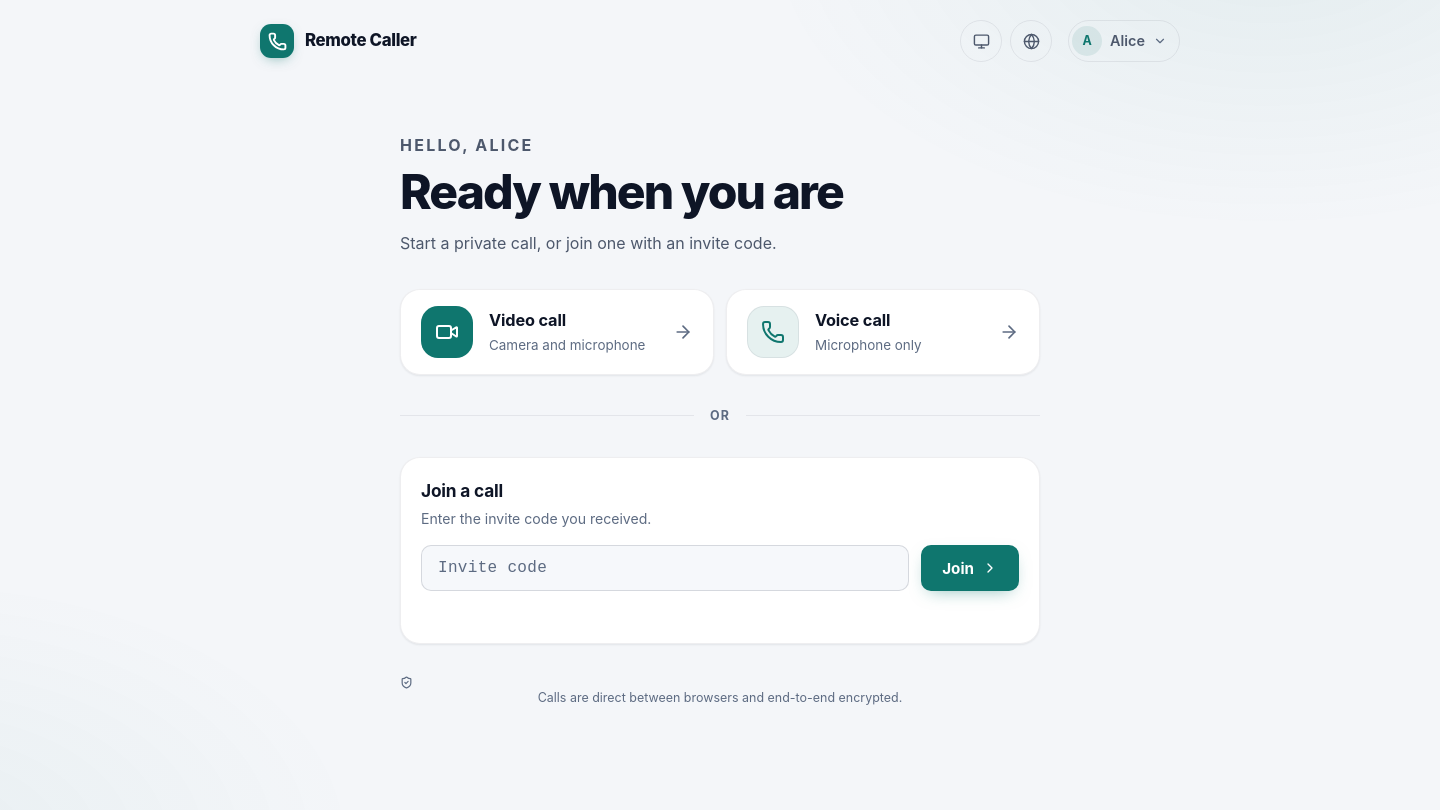
Test: HomeView › clears the code hint as the user types
Type "ab" into the field labelled "Invite code".
click(665, 568); type("ab")  # box top-left (421, 545), bottom-right (909, 591)
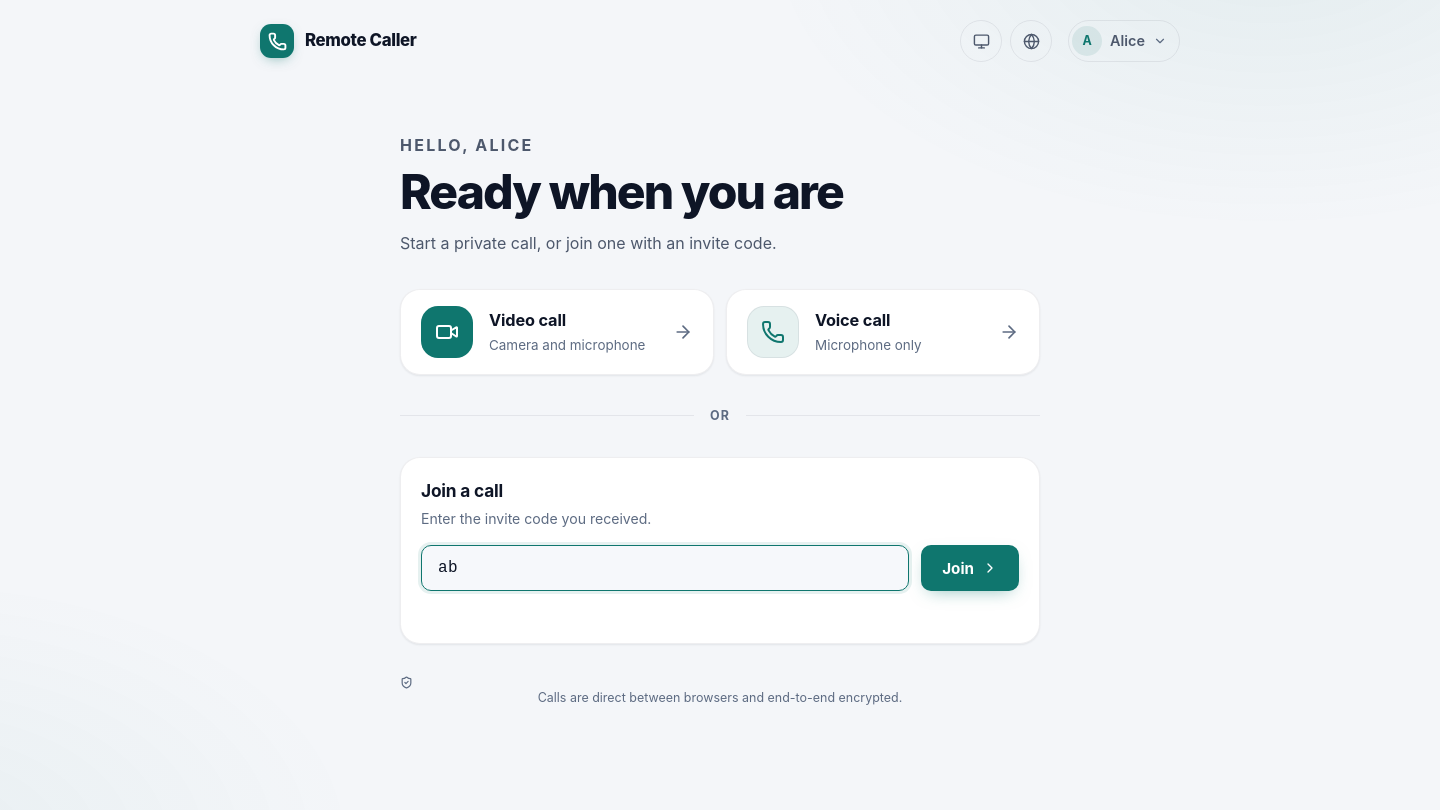
Click the button "Join".
click(970, 568)  # box top-left (921, 545), bottom-right (1019, 591)
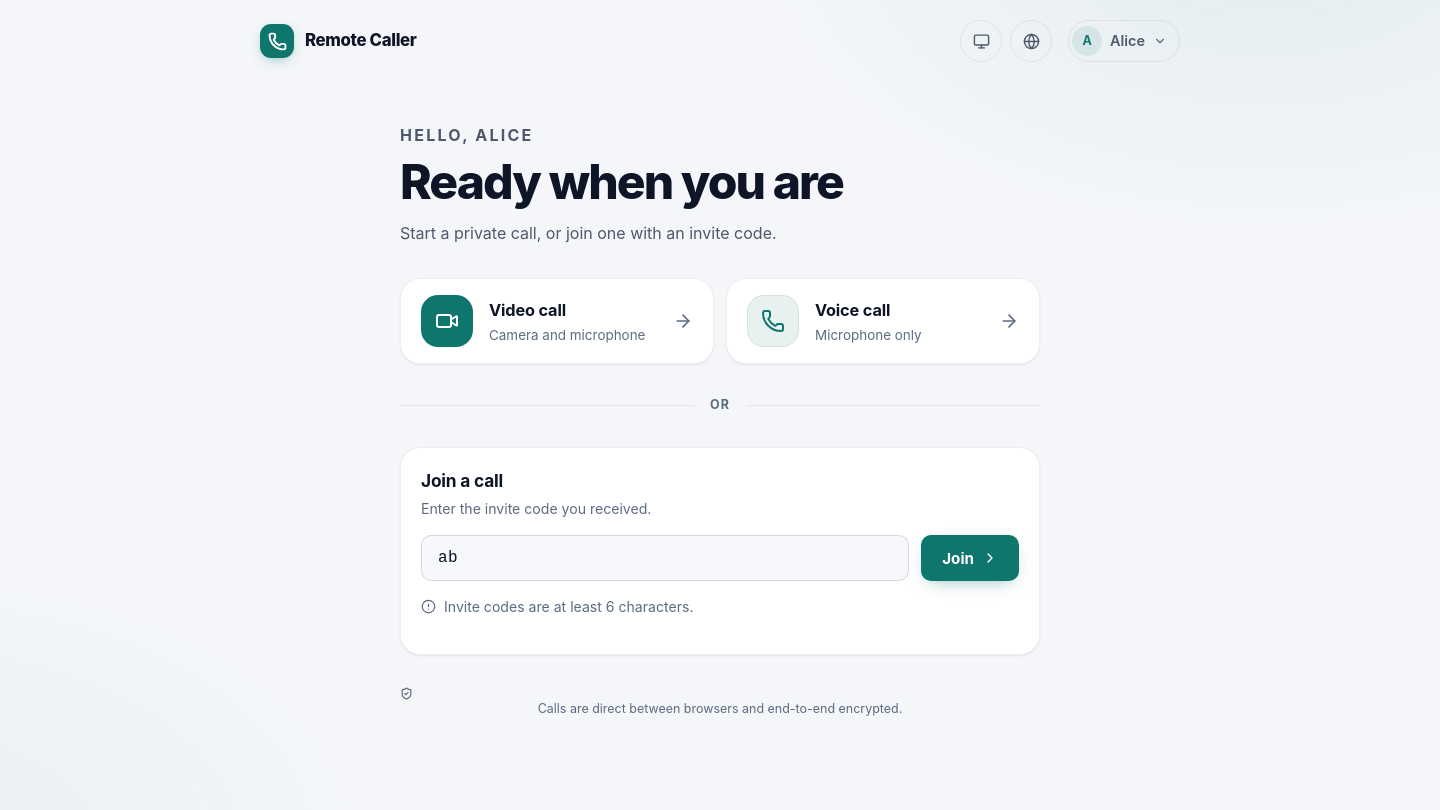
Expected: the message shows "at least 6 characters", top-left (444, 598), bottom-right (694, 615)
Type "cdef12" into the field named "Invite code".
click(665, 558); type("cdef12")  # box top-left (421, 535), bottom-right (909, 581)
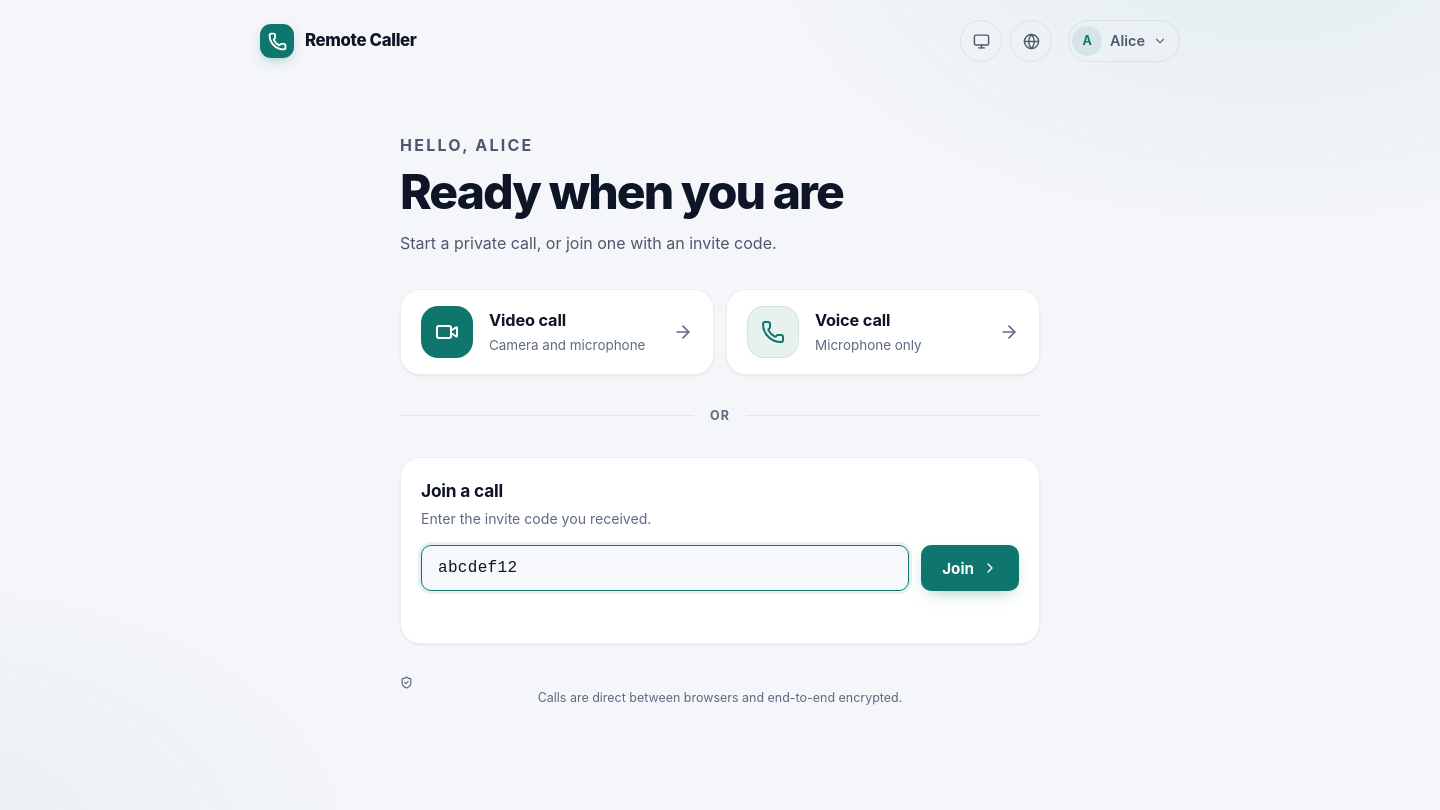
Expected: the text "at least 6 characters" is gone
